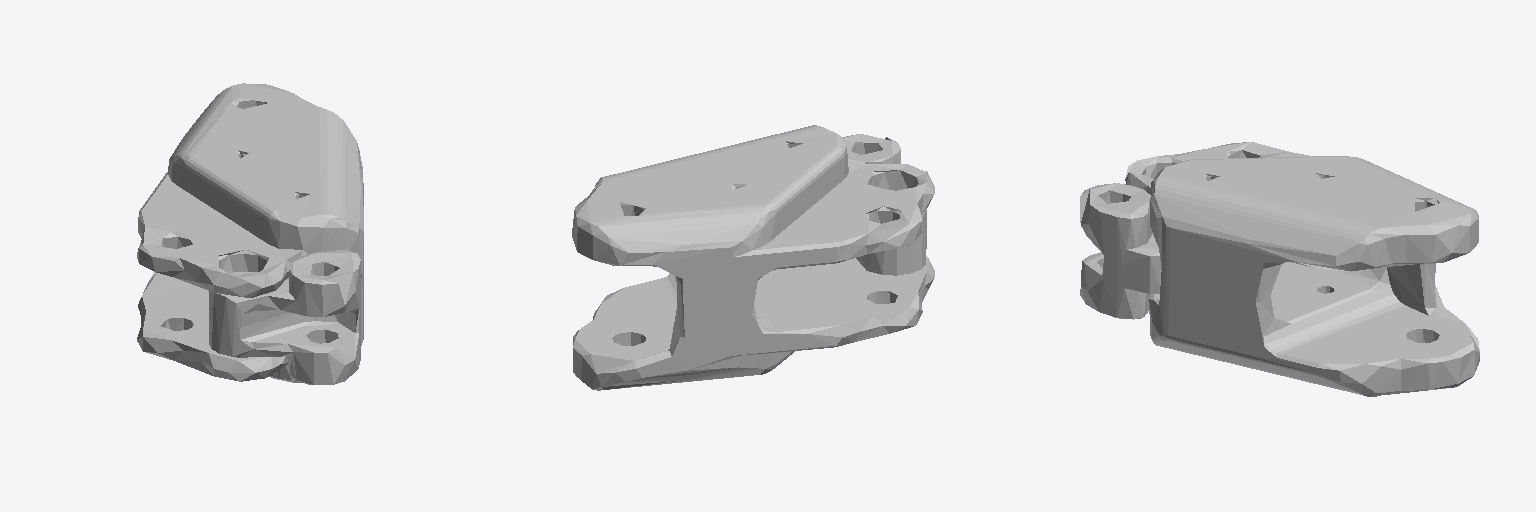
Rendered from R_thumb_intermediate.obj.
The picture shows the model from 3 angles: view 1: azimuth 30°, elevation 25°; view 2: azimuth 150°, elevation 25°; view 3: azimuth 270°, elevation 25°; orthographic projection.
Parts seen in each view (by area): view 1: R_thumb_intermediate; view 2: R_thumb_intermediate; view 3: R_thumb_intermediate.
Boxes of the visible parts, box(x1,y1,x2,y2) form: R_thumb_intermediate: box(137, 83, 363, 384); R_thumb_intermediate: box(572, 125, 934, 390); R_thumb_intermediate: box(1080, 142, 1479, 396).
Size of the model in its own units: 0.0264 by 0.016 by 0.0346.